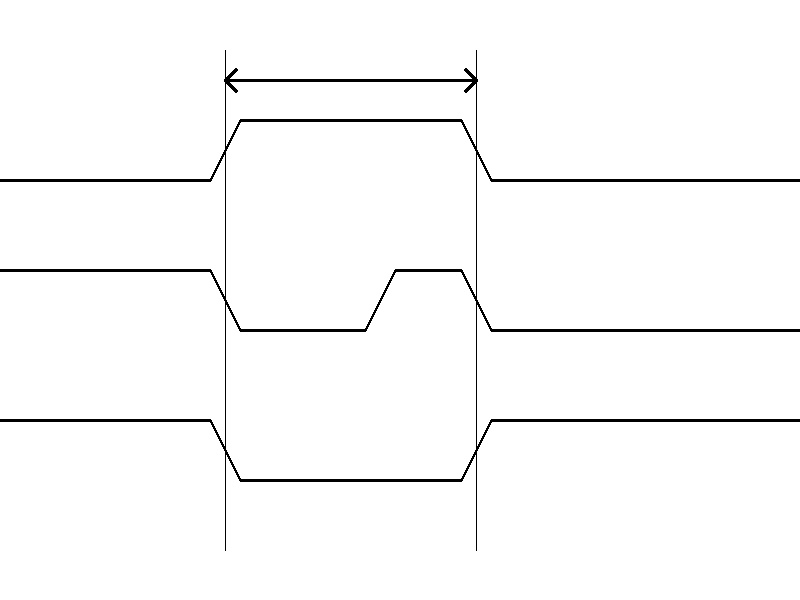double_arrow: (225, 65, 476, 95)
